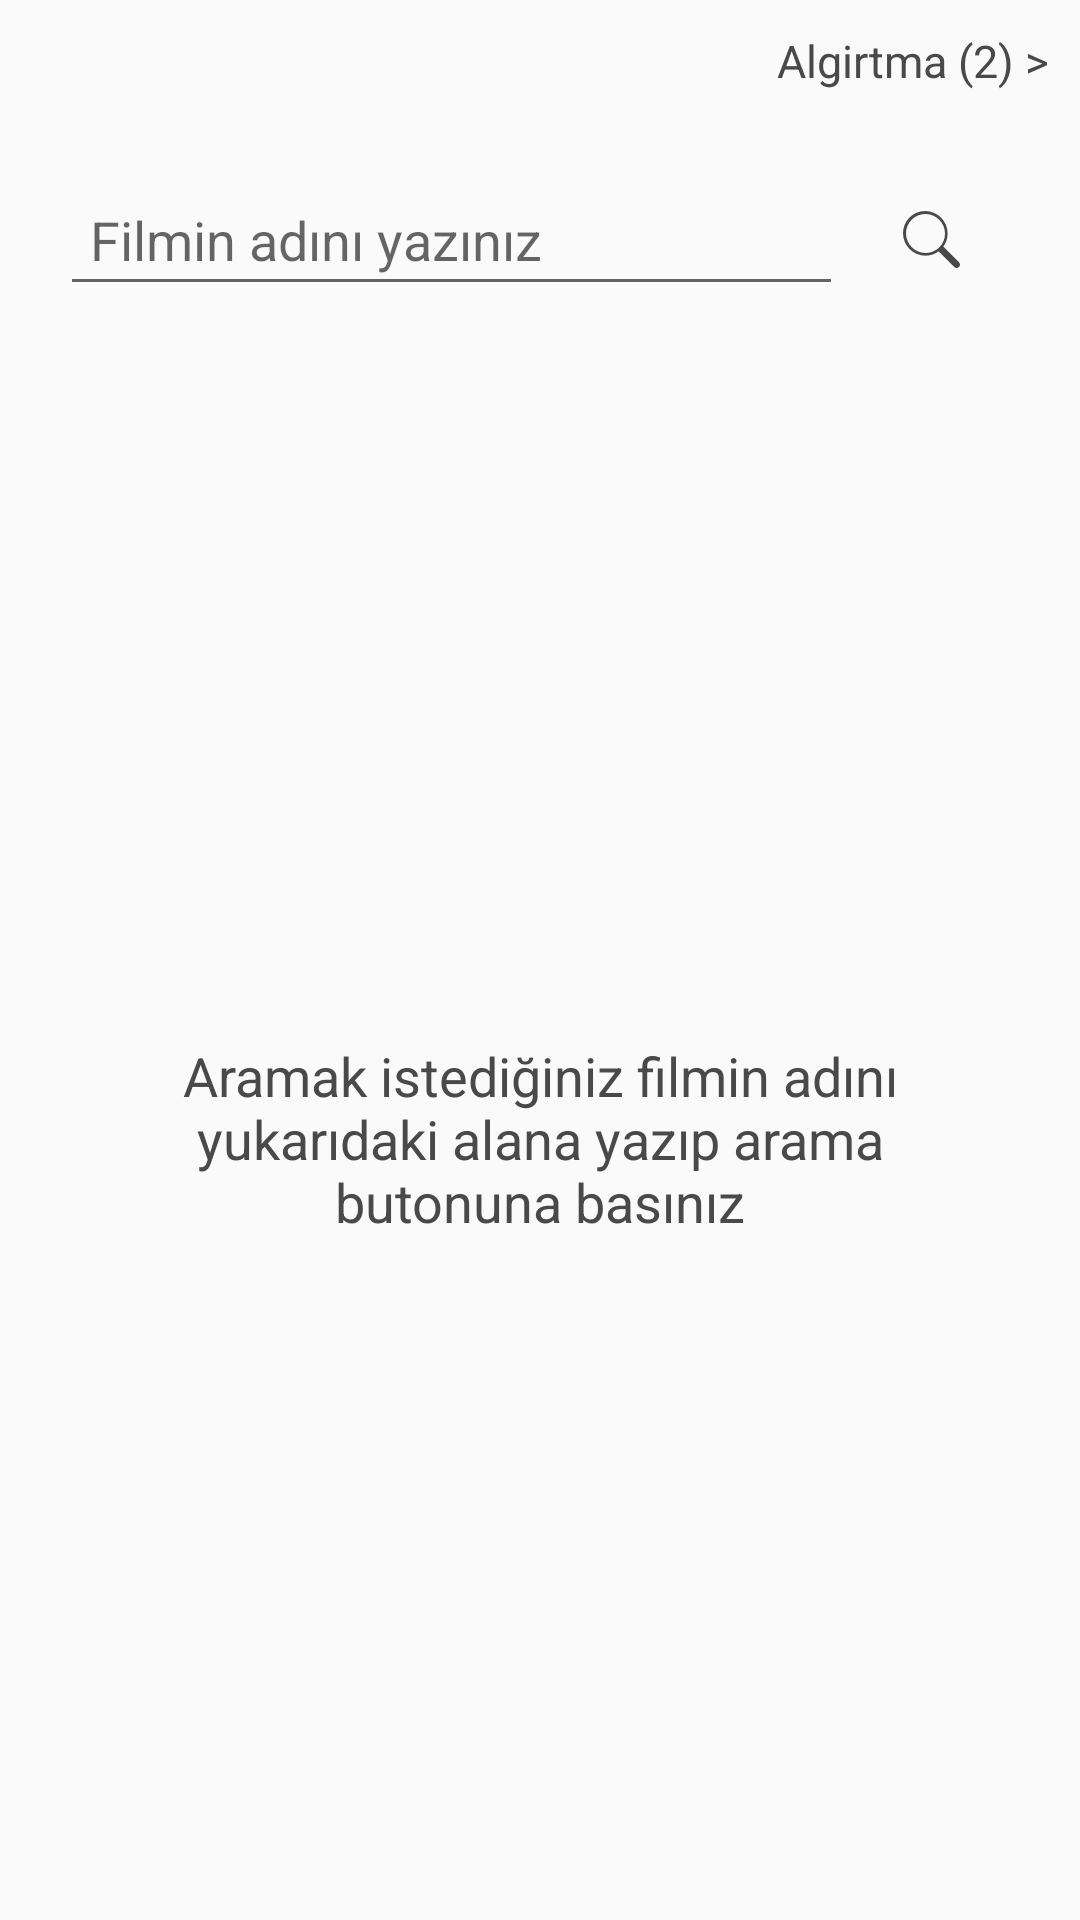

Named icons in this screenshot (1080×1920) and their centers, (x,y):
search brown: (931,239)
